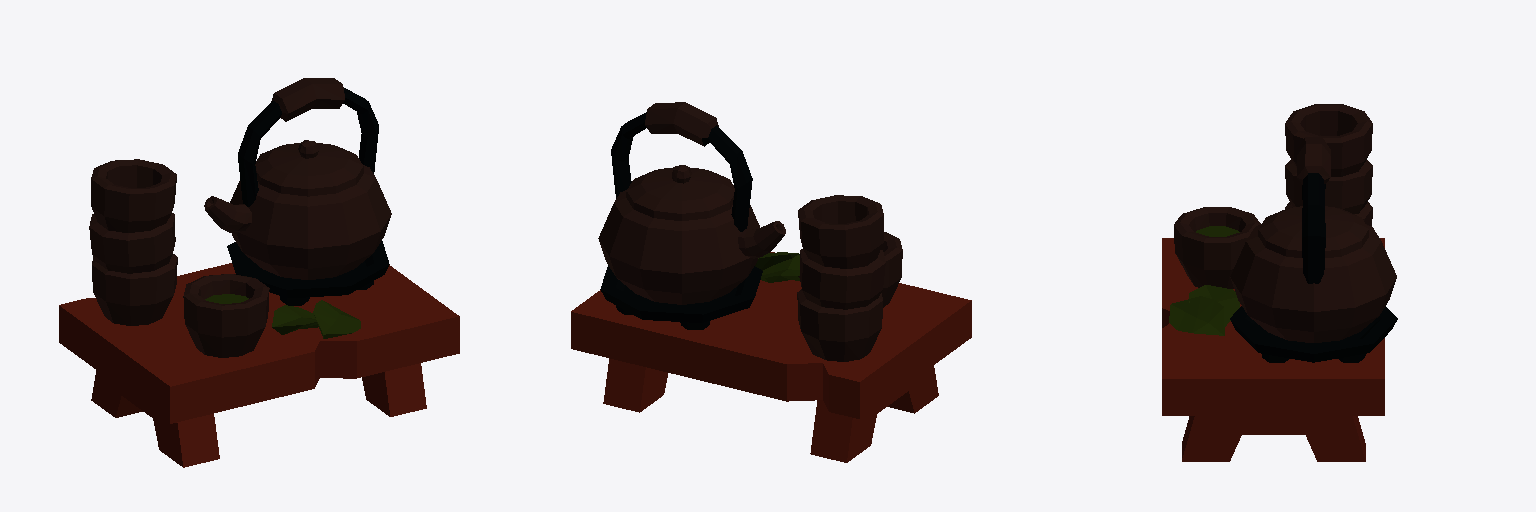
Rendered from table_decorated.obj.
The picture shows the model from 3 angles: view 1: azimuth 30°, elevation 25°; view 2: azimuth 150°, elevation 25°; view 3: azimuth 270°, elevation 25°; orthographic projection.
Visible parts, largest first — view 1: table_decorated_Cube.10787; view 2: table_decorated_Cube.10787; view 3: table_decorated_Cube.10787.
Part boxes in pixels (left/top/right/bottom): table_decorated_Cube.10787: left=59, top=78, right=459, bottom=467; table_decorated_Cube.10787: left=571, top=102, right=971, bottom=462; table_decorated_Cube.10787: left=1162, top=104, right=1397, bottom=461.
Size of the model in its own units: 1.12 by 1.08 by 0.7928.